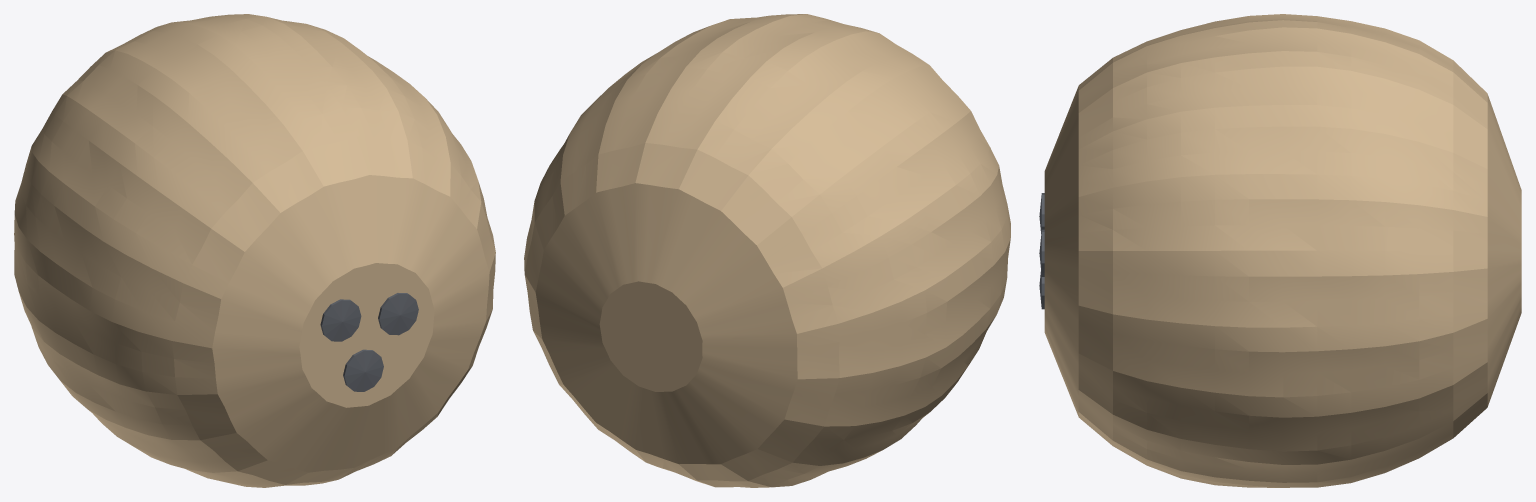
The model's file is fresh-produce-and-groceries-coconut-668cccb1__24341.glb.
3 renders of one model, left to right at view 1: azimuth 30°, elevation 25°; view 2: azimuth 150°, elevation 25°; view 3: azimuth 270°, elevation 25°, orthographic. The views are drawn at different scales.
Parts seen in each view (by area): view 1: coconut; view 2: coconut; view 3: coconut.
Boxes of the visible parts, x1,y1,x2,y2 form: coconut: (14, 14, 495, 487); coconut: (524, 14, 1010, 487); coconut: (1039, 14, 1521, 487).
Size of the model in its own units: 0.1244 by 0.1245 by 0.1264.
